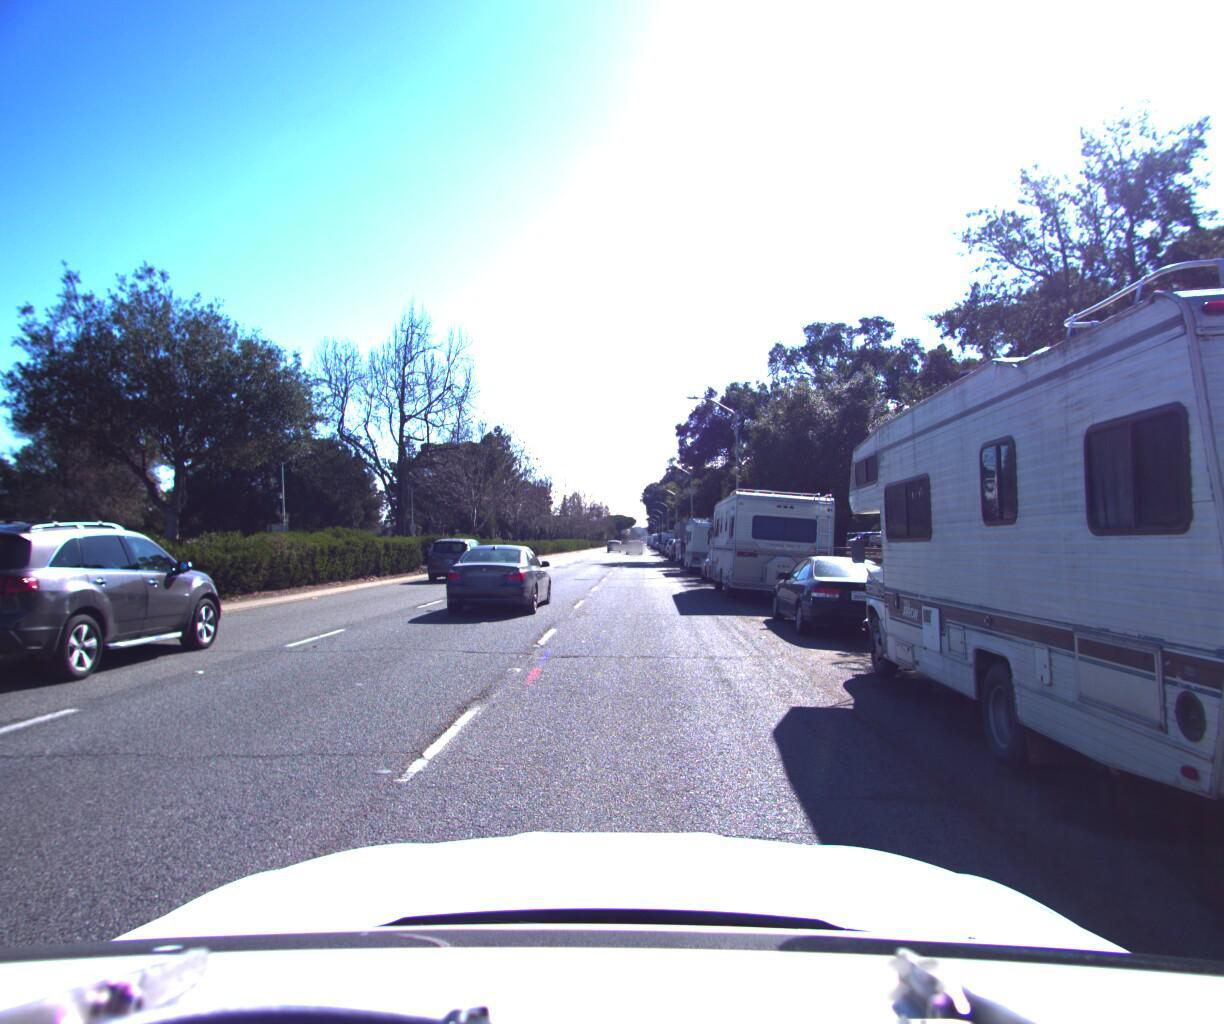car: (0, 510, 236, 699), (758, 544, 928, 644), (441, 537, 560, 613), (418, 527, 493, 581), (693, 538, 755, 581)
other_vehicle: (816, 80, 1224, 1024), (700, 471, 843, 604), (678, 509, 741, 573), (669, 510, 717, 560)
